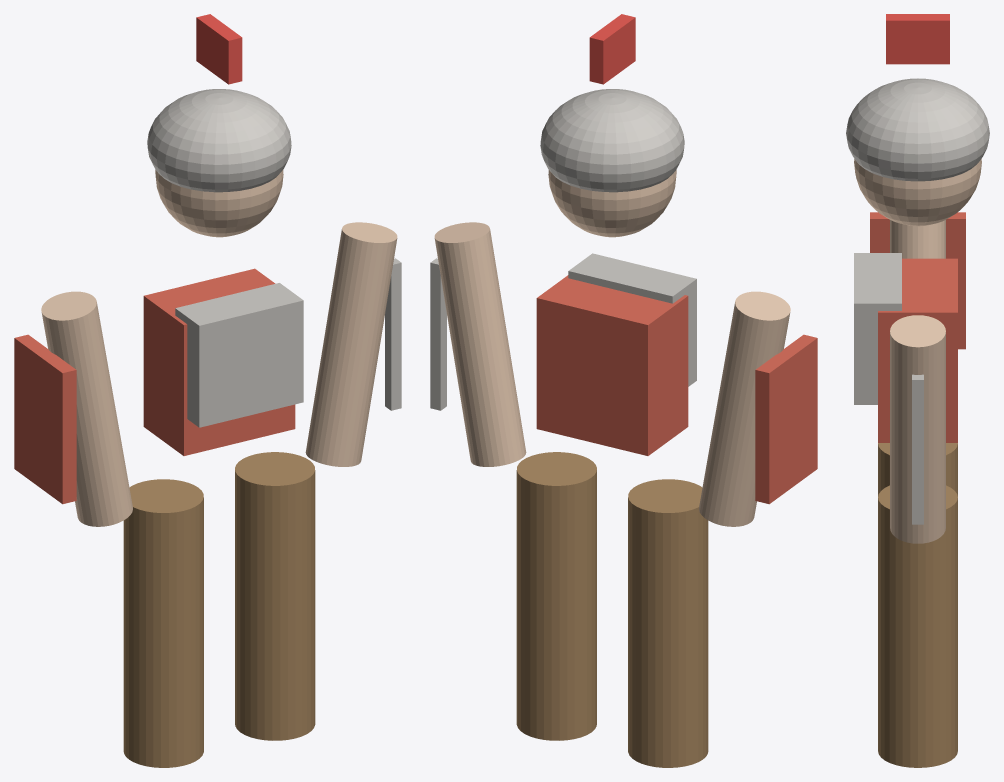
Rendered from rome_player.glb.
The picture shows the model from 3 angles, left to right: view 1: azimuth 30°, elevation 25°; view 2: azimuth 150°, elevation 25°; view 3: azimuth 270°, elevation 25°; orthographic projection.
Parts seen in each view (by area): view 1: Cylinder.001, Cylinder, Cube.001, Cylinder.003, Sphere.001, Cylinder.002, Cube, Cube.003, Sphere, Cube.002, Cube.004; view 2: Cube, Cylinder.001, Cylinder, Cylinder.003, Sphere.001, Cylinder.002, Cube.003, Sphere, Cube.001, Cube.002, Cube.004; view 3: Cylinder.001, Sphere.001, Cylinder.003, Cube, Cube.001, Sphere, Cube.002, Cube.003, Cylinder.002, Cube.004, Cylinder.
Part boxes in pixels (x1=…): Cylinder.001: x1=235, y1=452, x2=315, y2=740; Cylinder: x1=123, y1=479, x2=203, y2=767; Cube.001: x1=175, y1=283, x2=303, y2=427; Cylinder.003: x1=305, y1=222, x2=397, y2=466; Sphere.001: x1=147, y1=89, x2=291, y2=192; Cylinder.002: x1=41, y1=291, x2=132, y2=526; Cube: x1=143, y1=268, x2=295, y2=455; Cube.003: x1=14, y1=334, x2=76, y2=504; Sphere: x1=155, y1=169, x2=283, y2=237; Cube.002: x1=196, y1=14, x2=242, y2=84; Cube.004: x1=385, y1=258, x2=401, y2=410; Cube: x1=536, y1=275, x2=688, y2=455; Cylinder.001: x1=516, y1=452, x2=596, y2=740; Cylinder: x1=628, y1=479, x2=708, y2=767; Cylinder.003: x1=434, y1=222, x2=526, y2=466; Sphere.001: x1=540, y1=89, x2=684, y2=192; Cylinder.002: x1=699, y1=291, x2=790, y2=526; Cube.003: x1=755, y1=334, x2=817, y2=504; Sphere: x1=548, y1=169, x2=676, y2=237; Cube.001: x1=568, y1=253, x2=696, y2=386; Cube.002: x1=589, y1=14, x2=635, y2=84; Cube.004: x1=430, y1=258, x2=446, y2=410; Cylinder.001: x1=878, y1=485, x2=957, y2=767; Sphere.001: x1=846, y1=78, x2=989, y2=181; Cylinder.003: x1=890, y1=315, x2=945, y2=543; Cube: x1=878, y1=258, x2=957, y2=442; Cube.001: x1=854, y1=253, x2=901, y2=404; Sphere: x1=854, y1=159, x2=981, y2=226; Cube.002: x1=886, y1=14, x2=949, y2=64; Cube.003: x1=870, y1=212, x2=965, y2=349; Cylinder.002: x1=890, y1=220, x2=945, y2=258; Cube.004: x1=912, y1=374, x2=923, y2=524; Cylinder: x1=878, y1=443, x2=957, y2=496.
Bounding box in the file's own units: 0.5175 × 0.975 × 0.18.
